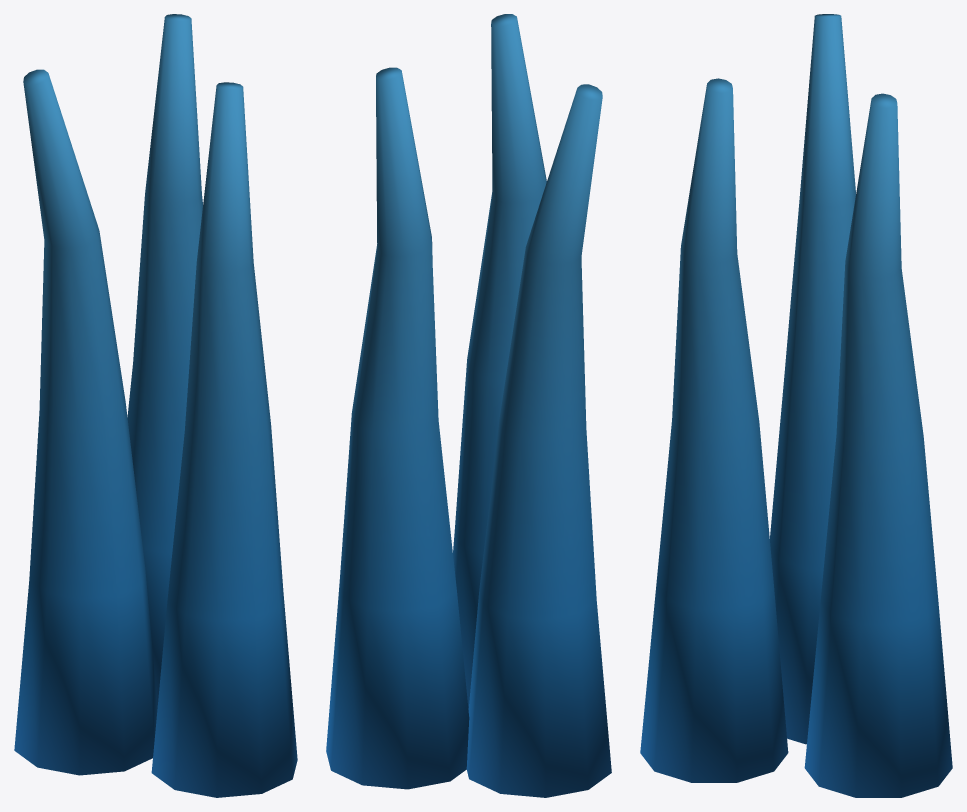
Rendered from Grass008.fbx.
3 views of the same model, side by side, from view 1: azimuth 30°, elevation 25°; view 2: azimuth 150°, elevation 25°; view 3: azimuth 270°, elevation 25° (orthographic).
Visible parts, largest first — view 1: Grass008; view 2: Grass008; view 3: Grass008.
Part boxes in pixels (x1,y1,x2,y2): Grass008: (14,14,297,797); Grass008: (326,14,611,797); Grass008: (640,14,952,797).
Bounding box in the file's own units: 39.96 × 111 × 46.49.
